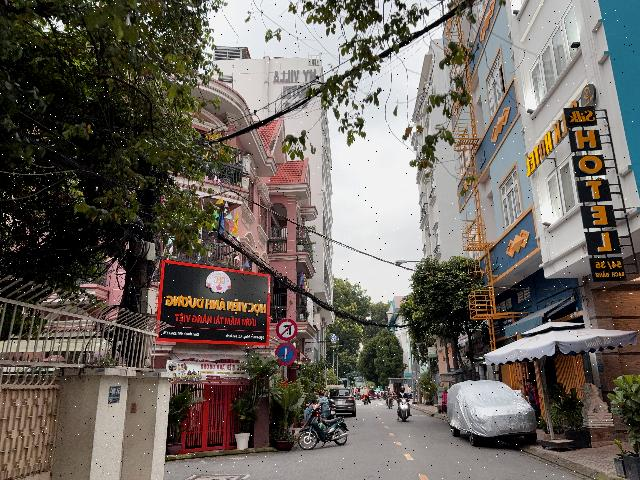cam-do-xe-ngay-le: (274, 343, 296, 366)
cam-re-phai: (276, 318, 297, 341)
